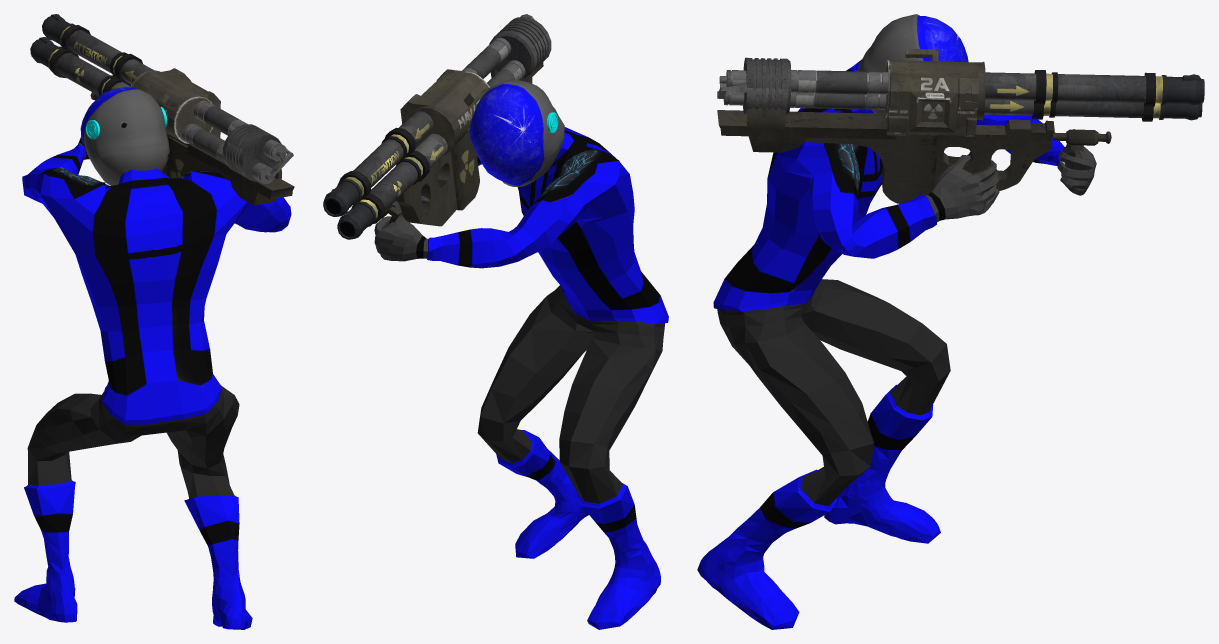
3 views of the same model, side by side, from view 1: azimuth 30°, elevation 25°; view 2: azimuth 150°, elevation 25°; view 3: azimuth 270°, elevation 25° (orthographic). The views are drawn at different scales.
Parts seen in each view (by area): view 1: Brazos2, Piernas1, group1_polySurface5, Cabeza1; view 2: Piernas1, Brazos2, group1_polySurface5, Cabeza1; view 3: Piernas1, group1_polySurface5, Brazos2, Cabeza1.
Part boxes in pixels (x1,y1,x2,y2): Brazos2: [22, 137, 291, 424]; Piernas1: [14, 385, 252, 629]; group1_polySurface5: [30, 14, 294, 205]; Cabeza1: [80, 87, 169, 185]; Piernas1: [477, 285, 665, 629]; Brazos2: [374, 127, 668, 323]; group1_polySurface5: [323, 14, 551, 239]; Cabeza1: [469, 80, 564, 186]; Piernas1: [697, 279, 950, 629]; group1_polySurface5: [717, 48, 1204, 203]; Brazos2: [713, 59, 1096, 311]; Cabeza1: [857, 14, 968, 113].
Bounding box in the file's own units: 74.63 × 149 × 118.
